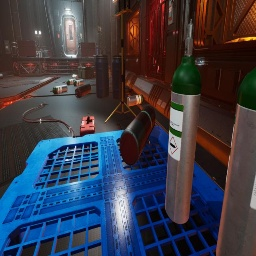0: (216, 66, 256, 256), (165, 19, 202, 224), (127, 94, 146, 107), (50, 85, 68, 94), (71, 79, 84, 86), (65, 78, 76, 85), (72, 74, 78, 80), (70, 56, 76, 58)
EmergencyPhone ,: (80, 32, 82, 38), (123, 55, 125, 60)
FireAlarm ,: (58, 34, 60, 38)
FireExtinguisher ]: (16, 55, 24, 57)
FirstAidBox ,: (80, 113, 96, 152)
NitrogenTank ,: (119, 106, 155, 166), (75, 83, 91, 98), (0, 74, 3, 80), (26, 56, 34, 57)
SafetySwitchPanel ,: (168, 0, 176, 25), (4, 40, 11, 54), (119, 53, 122, 56)
